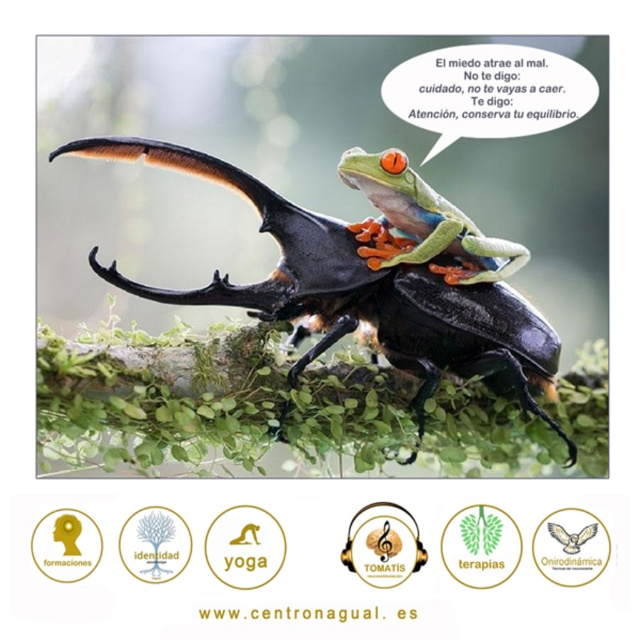Frog: (337, 148, 530, 285)
